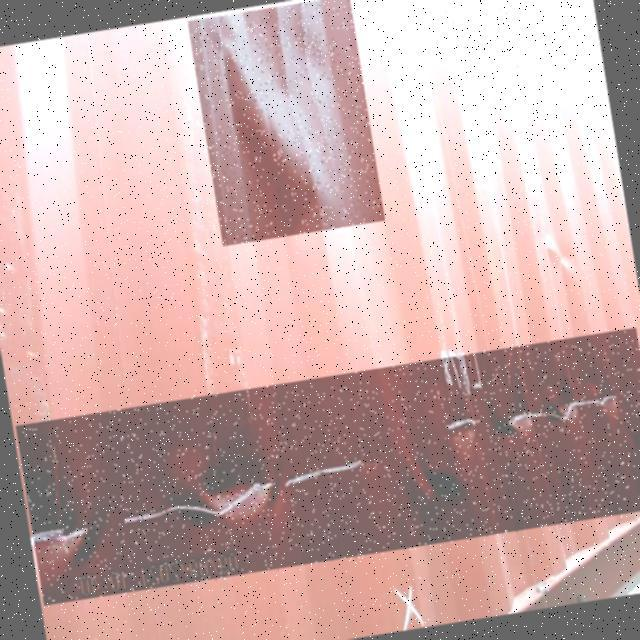Dent: (16, 328, 640, 608), (187, 0, 385, 246)
Minor-Dent: (435, 0, 519, 80)
